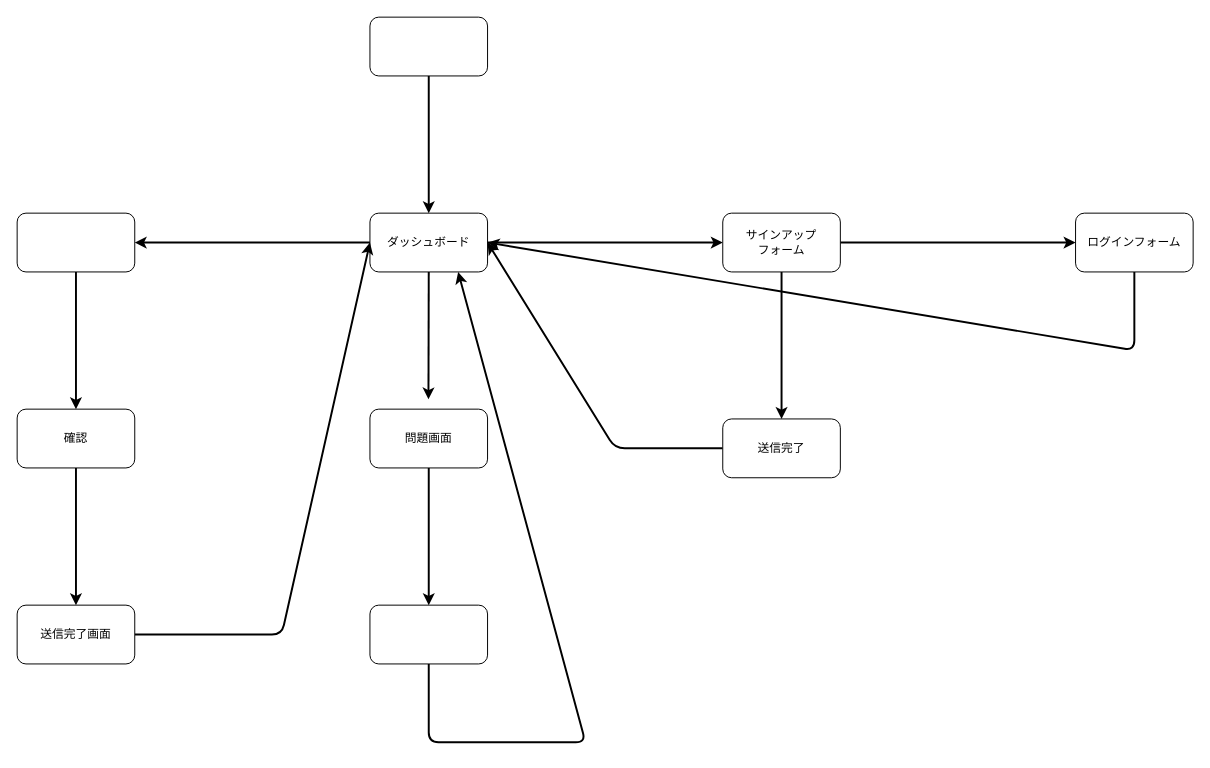
The diagram is 1210 pixels wide and 768 high, and some of its shapes have lost their labels. Here are the shapes that lost their labels. From the top down, the centre of each, then its label:
At (x=428, y=46): "トップページ".
At (x=75, y=242): "問い合わせフォーム".
At (x=428, y=634): "答え確認".
